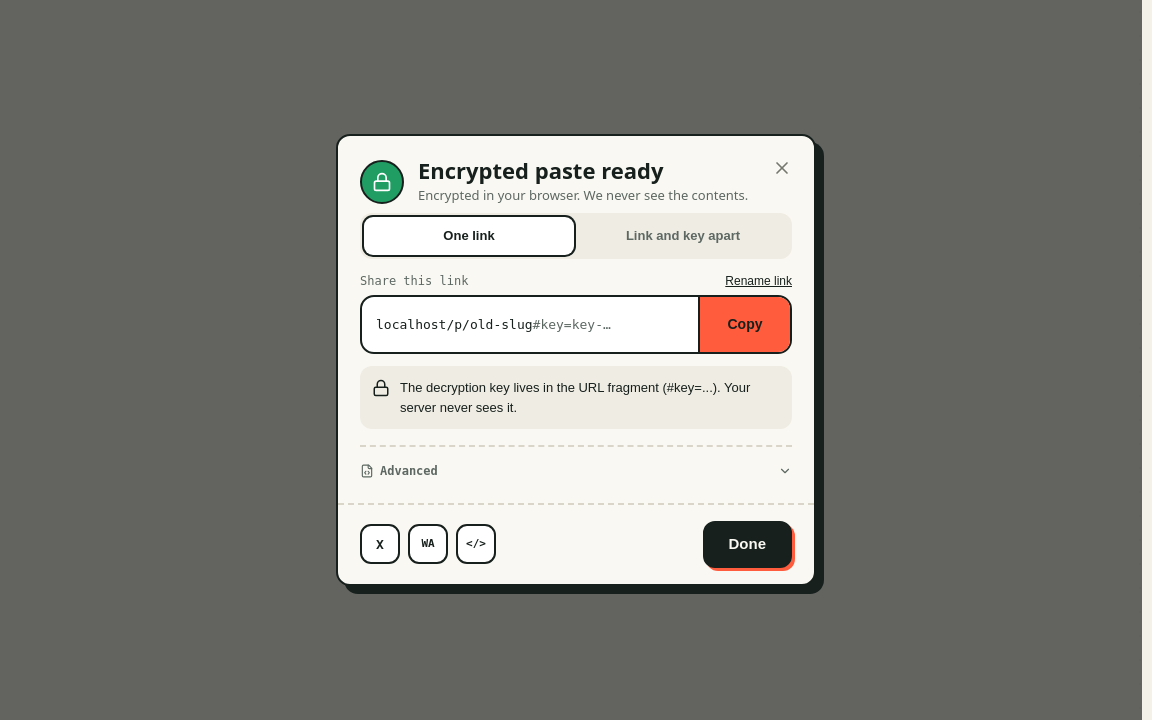
PasteCreatedModal Security & UX Hardening › modal_slugUpdateSuccess_updatesAllUrlsAndCopyTargets
This screenshot has width=1152, height=720.
// Click rename link
Click the button "Rename link" at (759, 281), box [725,273,792,289]
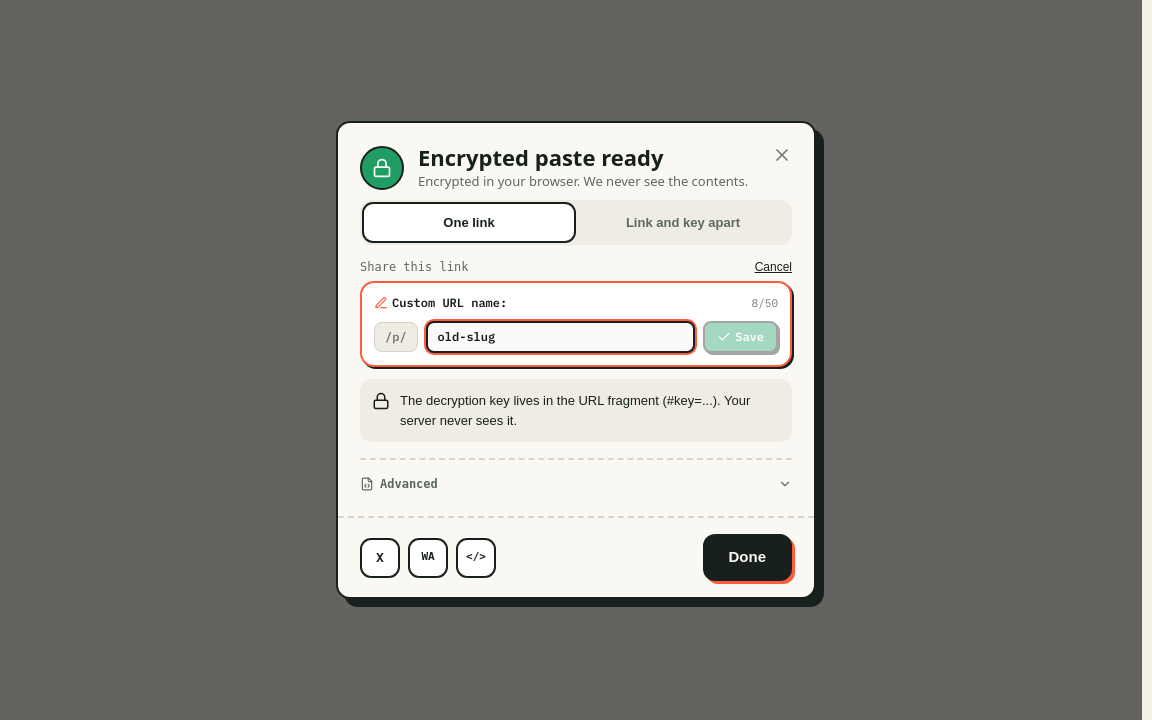
Replace the text in the field with placeholder "your-custom-name" with "brand-new-slug" at (560, 337), box [426,321,695,353]
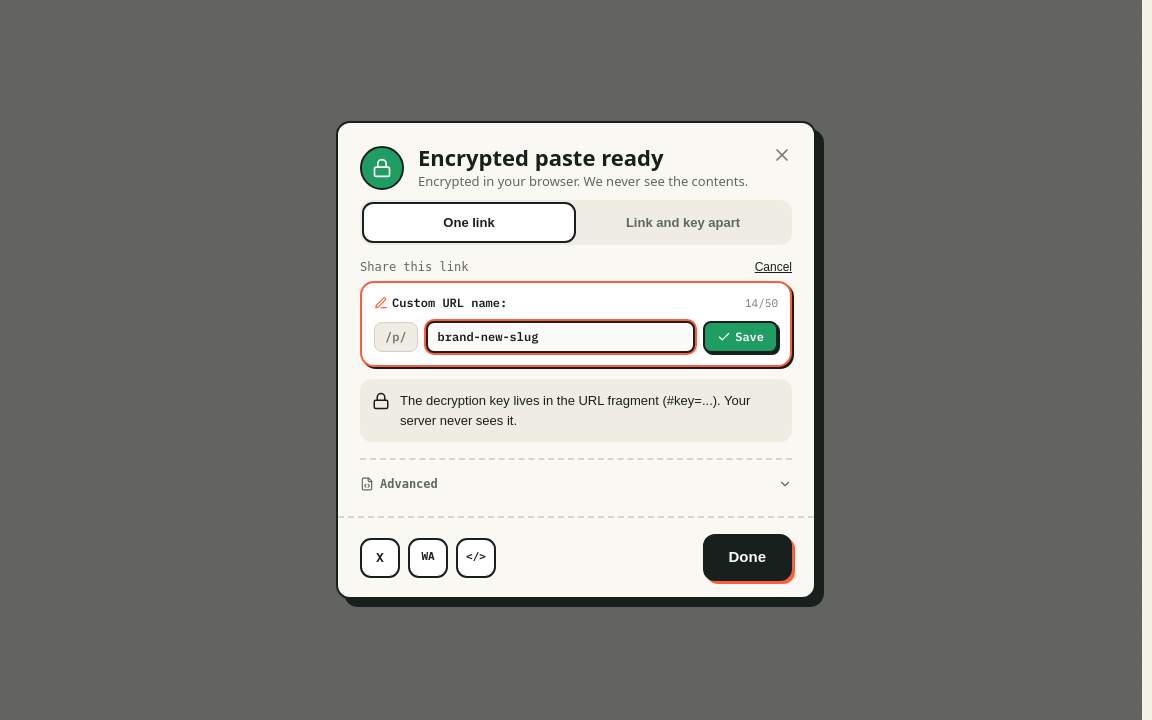
Click the button "Save" at (741, 337), box [703,321,778,353]
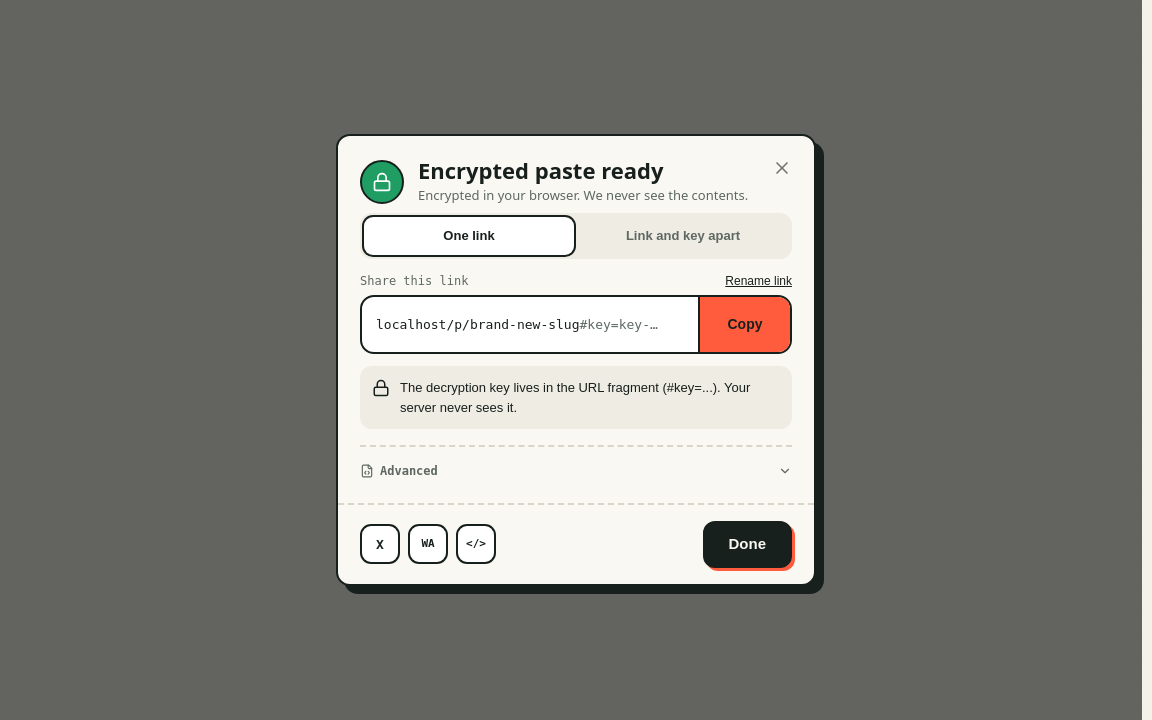
Expected: the field named "shareable paste url" shows "brand-new-slug", [470,317,580,332]
